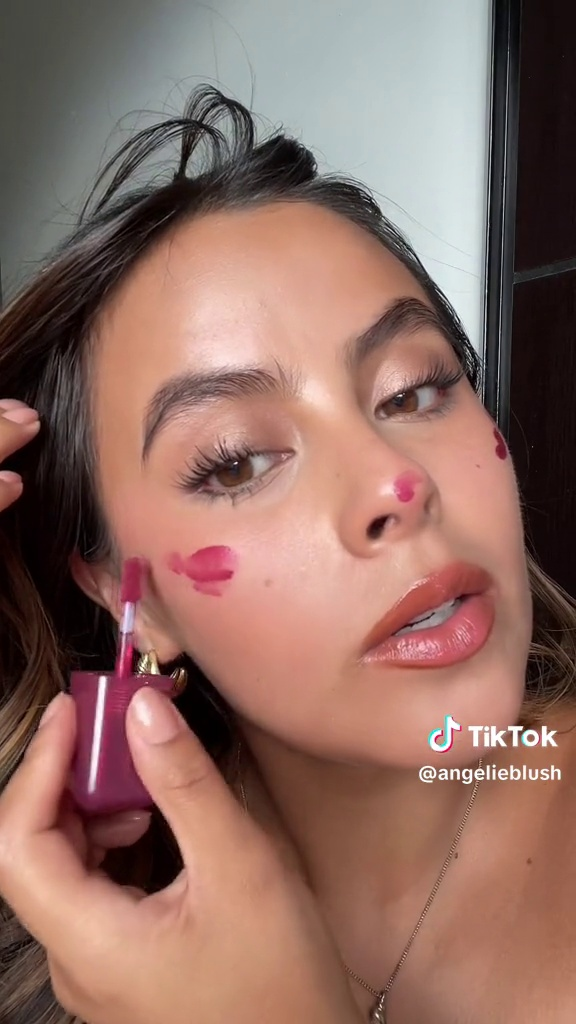train' :'yolo_data/train/images',: (64, 548, 194, 821)
